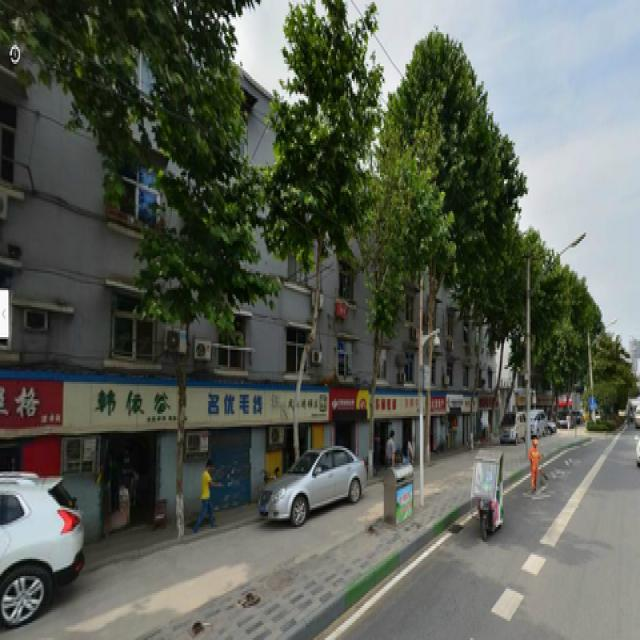meta: (161, 11, 247, 584), (291, 11, 356, 480)
